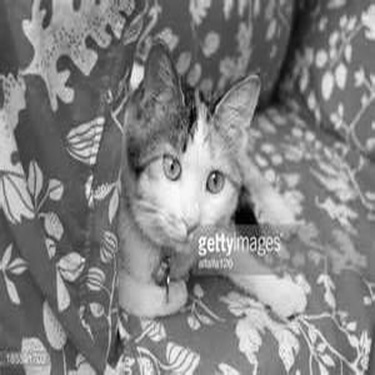cat: (117, 38, 262, 320)
